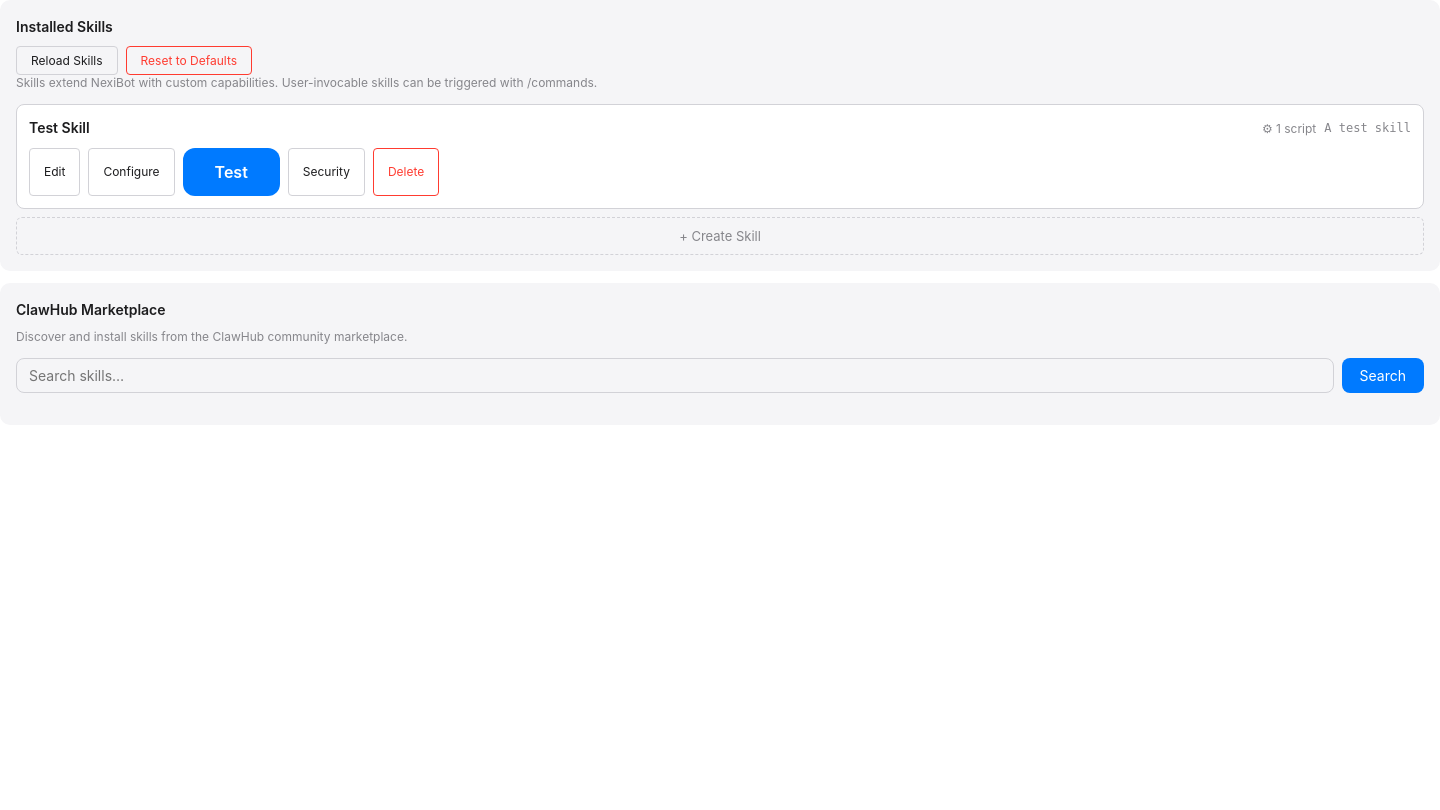
Test: Key-value add › adds a new key-value pair and clears the inputs after clicking Add
Step 1. Click the button "Configure" → (132, 172), box [88,148,175,196]
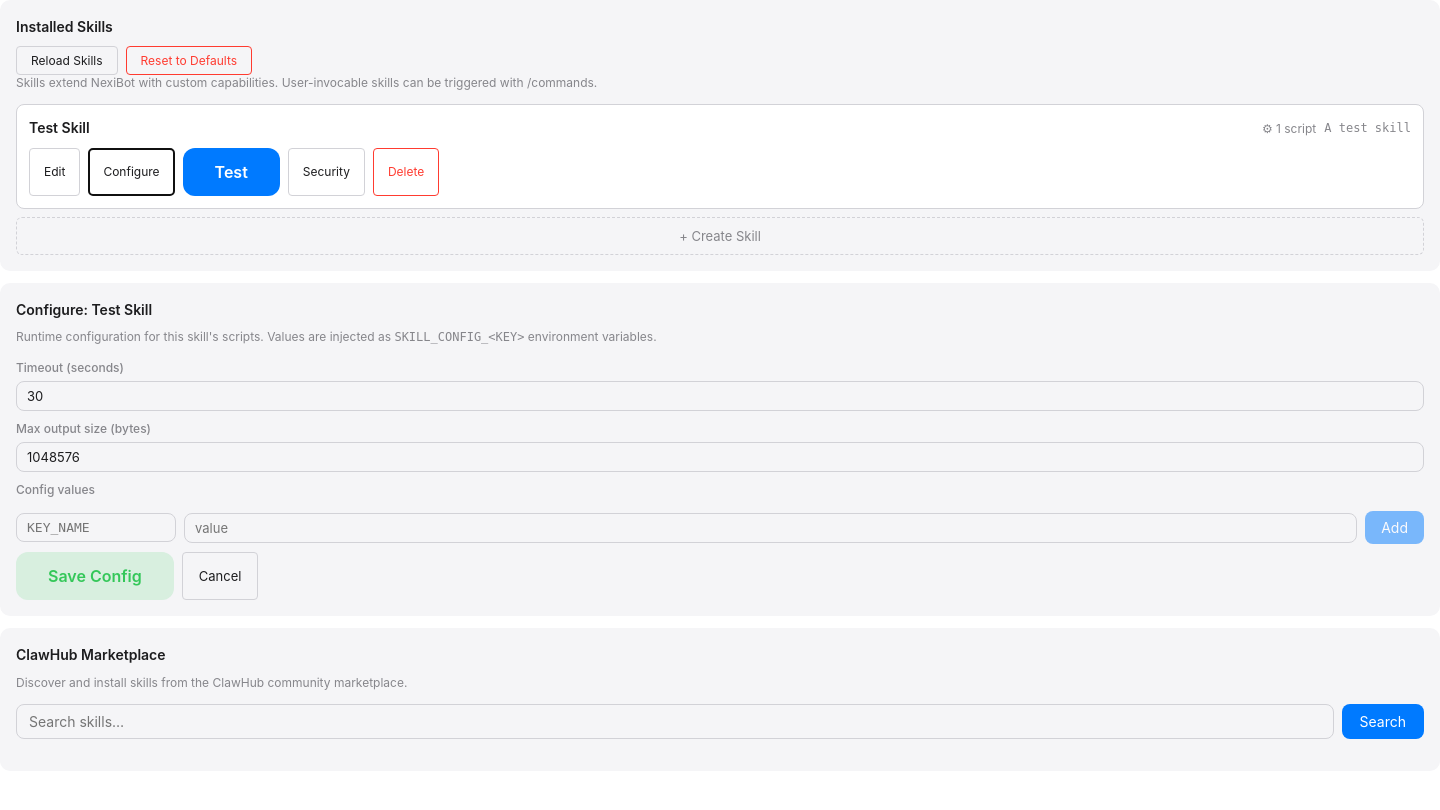
Now the field with placeholder "KEY_NAME" is shown
Step 2. Type "MY_KEY" into the field with placeholder "KEY_NAME" → (96, 528), box [16,513,176,542]
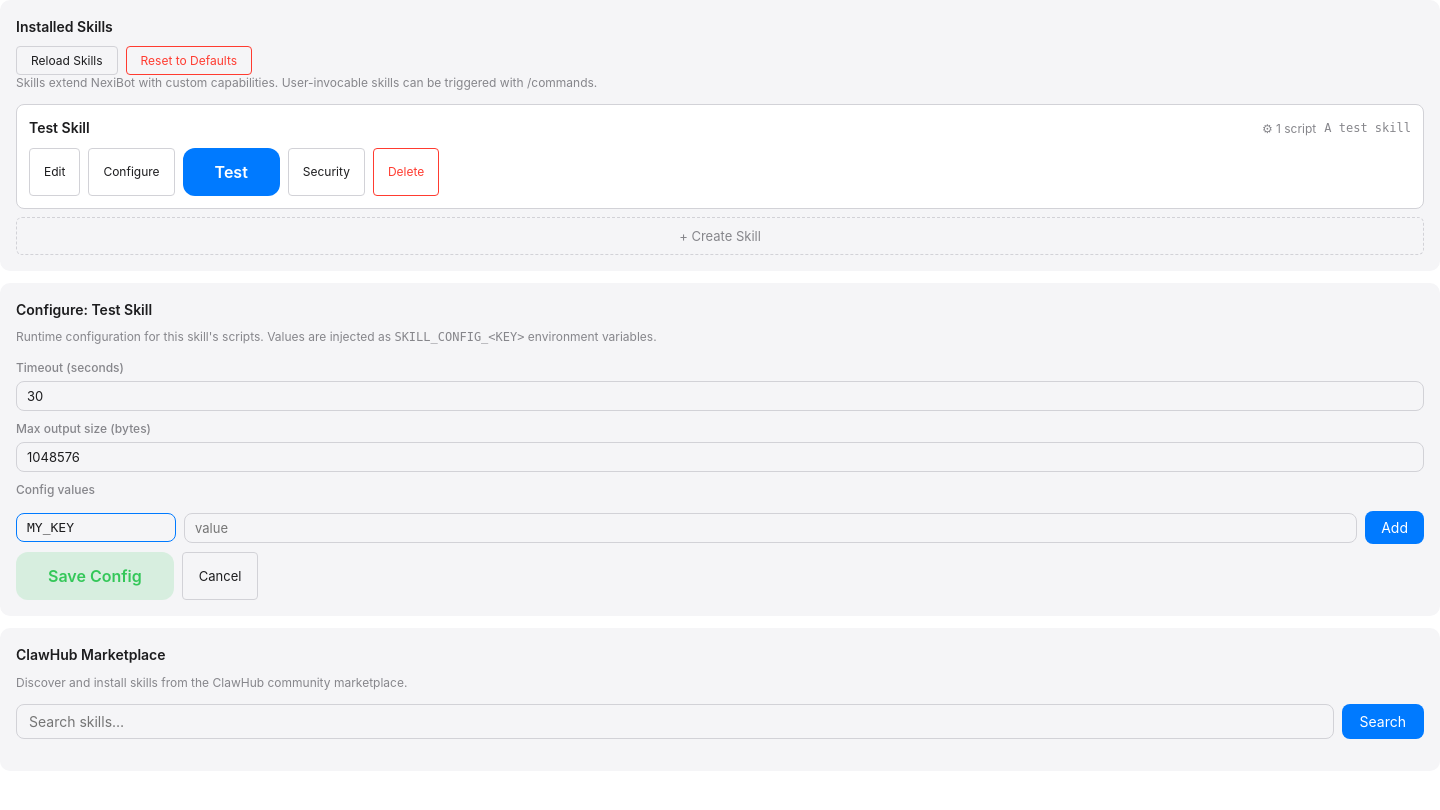
Step 3. Type "my_value" into the field with placeholder "value" → (771, 528), box [184,513,1357,543]
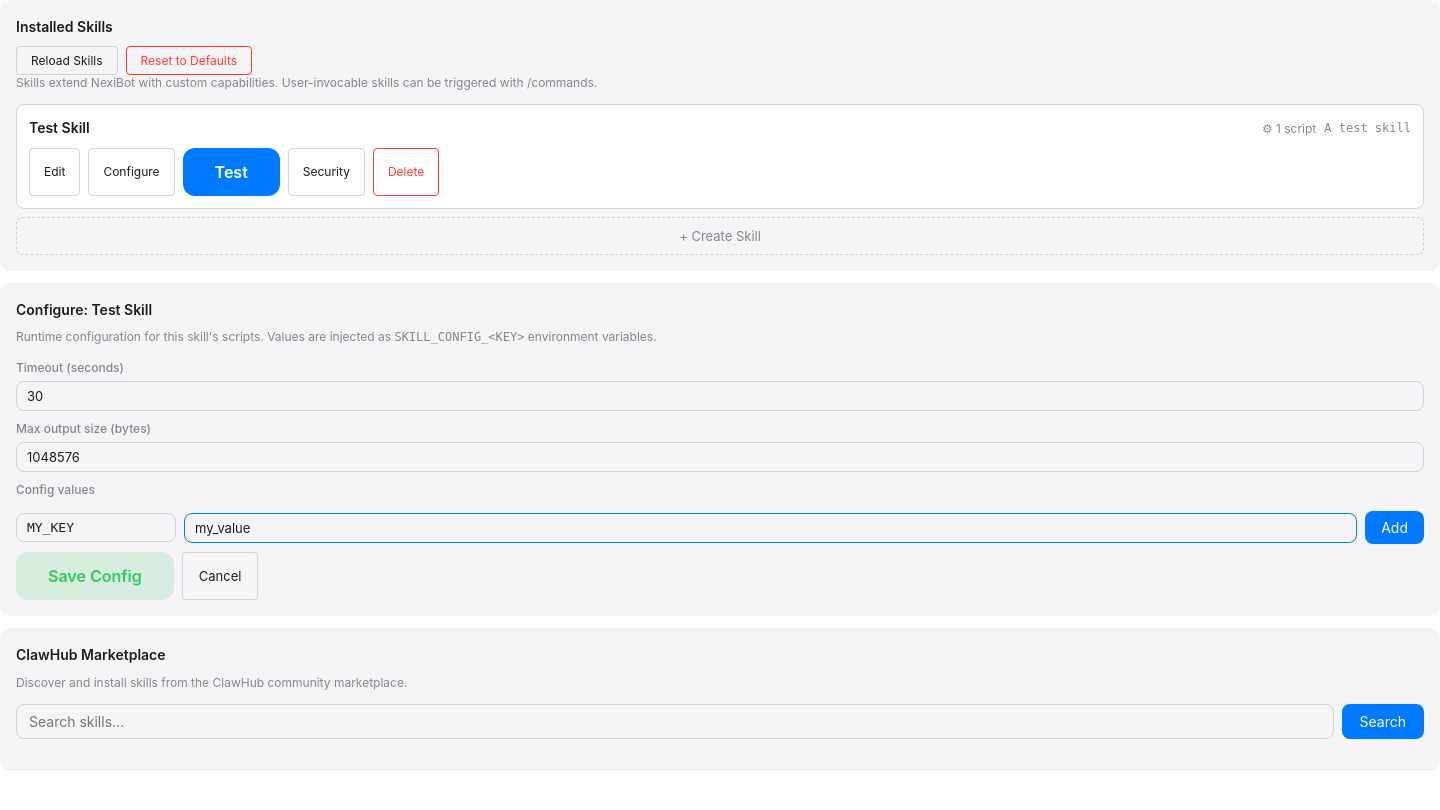
Step 4. Click the button "Add" → (1395, 528), box [1365,511,1424,544]
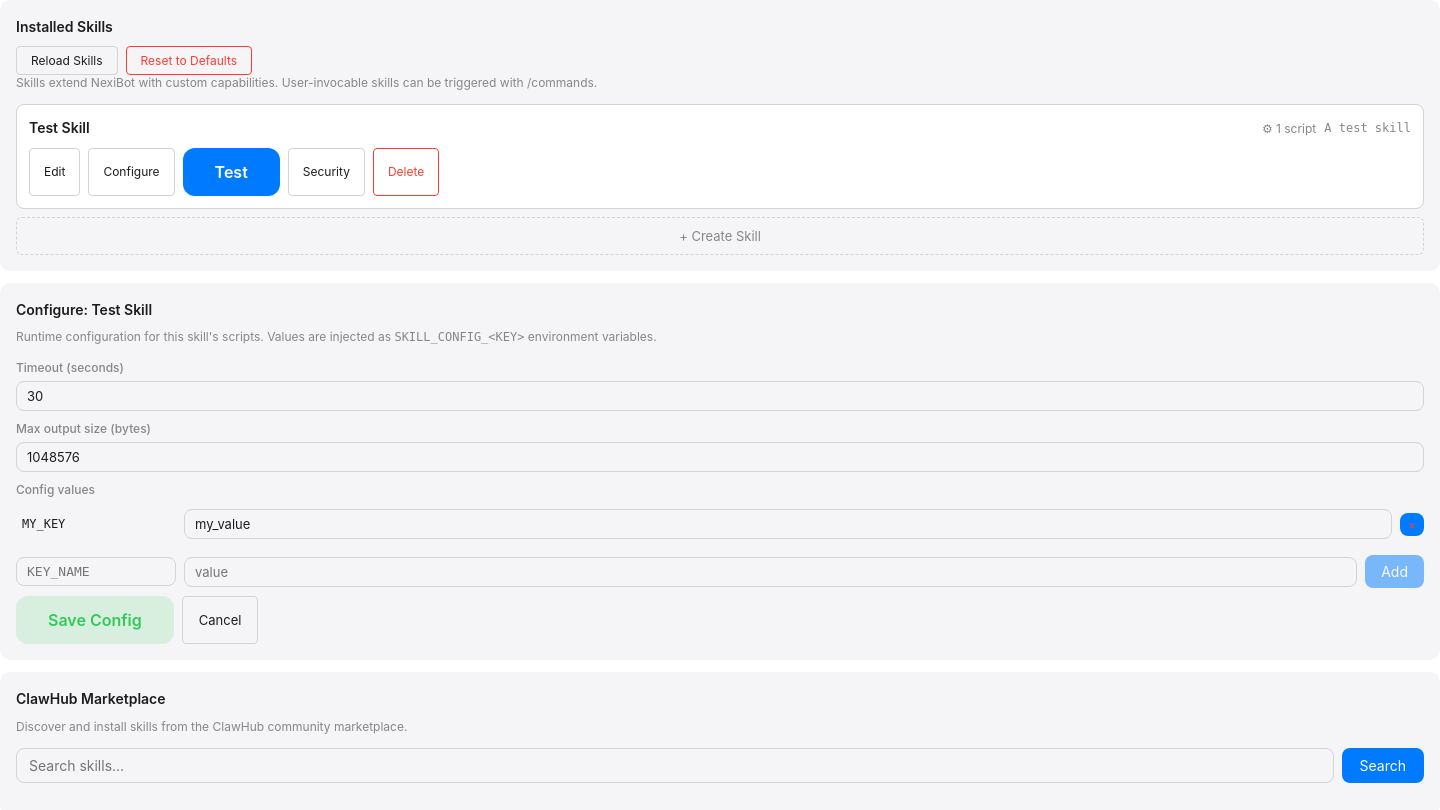
Now the text "MY_KEY" is shown, box [22,517,65,531]
Now the field with placeholder "KEY_NAME" is empty, box [16,557,176,586]
Now the field with placeholder "value" is empty, box [184,557,1357,587]
